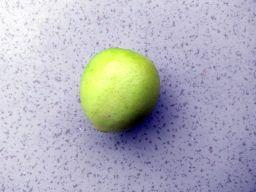lemon: (75, 45, 171, 139)
